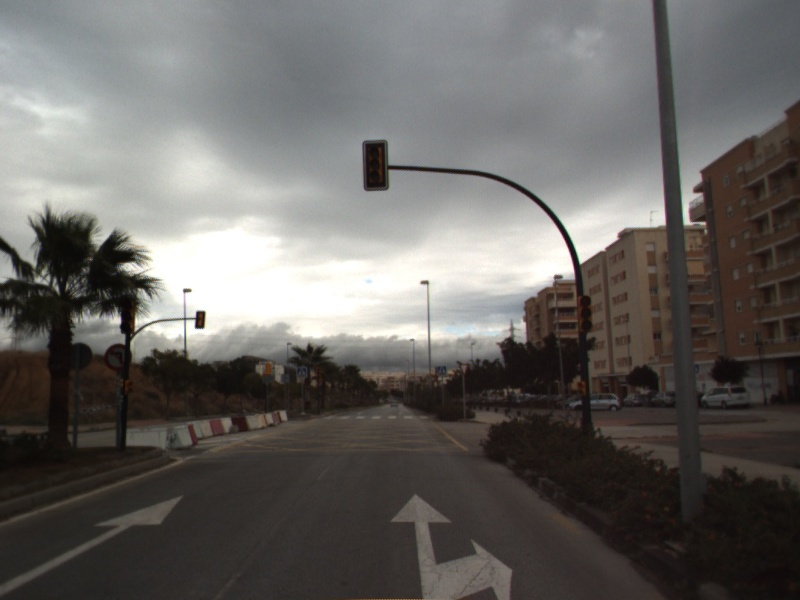STRAIGHT: (1, 493, 186, 597)
STRAIGHT_RIGHT: (388, 491, 516, 600)
